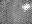person: (23, 3, 30, 10)
